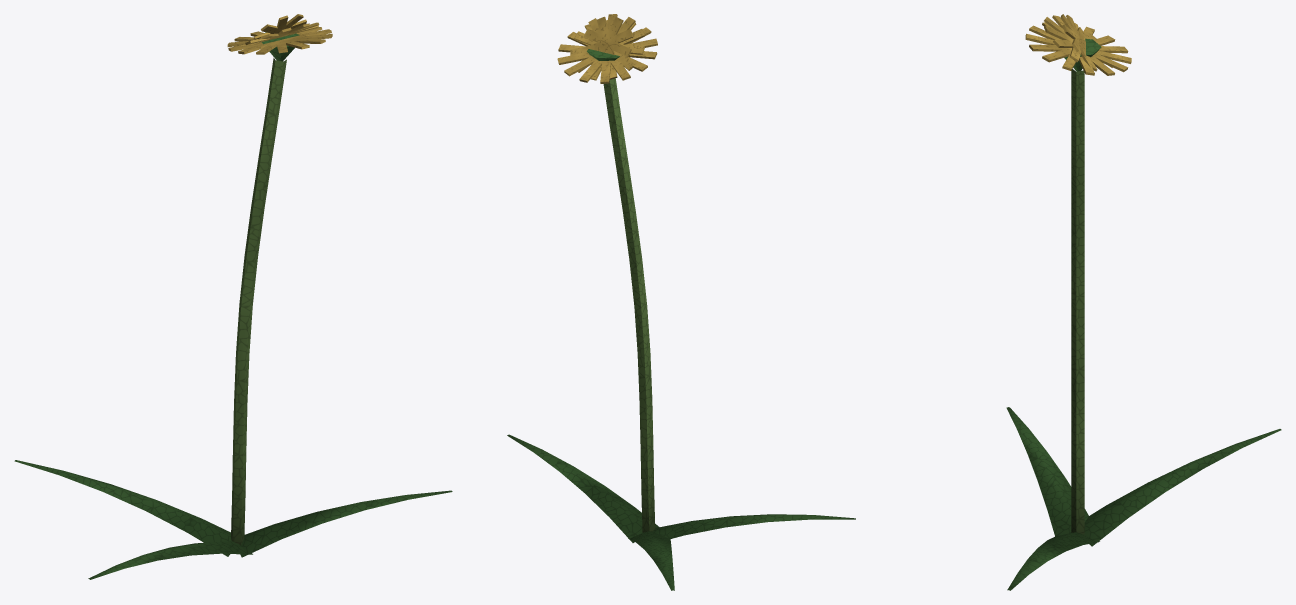
Rendered from dandelion.glb.
3 views of the same model, side by side, from view 1: azimuth 30°, elevation 25°; view 2: azimuth 150°, elevation 25°; view 3: azimuth 270°, elevation 25° (orthographic). The views are drawn at different scales.
Parts seen in each view (by area): view 1: dandelion; view 2: dandelion; view 3: dandelion.
Boxes of the visible parts, bbox=[...] form: dandelion: bbox=[14, 14, 452, 579]; dandelion: bbox=[507, 14, 855, 590]; dandelion: bbox=[1006, 14, 1281, 590].
Bounding box in the file's own units: 20.71 × 28.7 × 18.98.
Materials: 4 (4 with a texture image).
